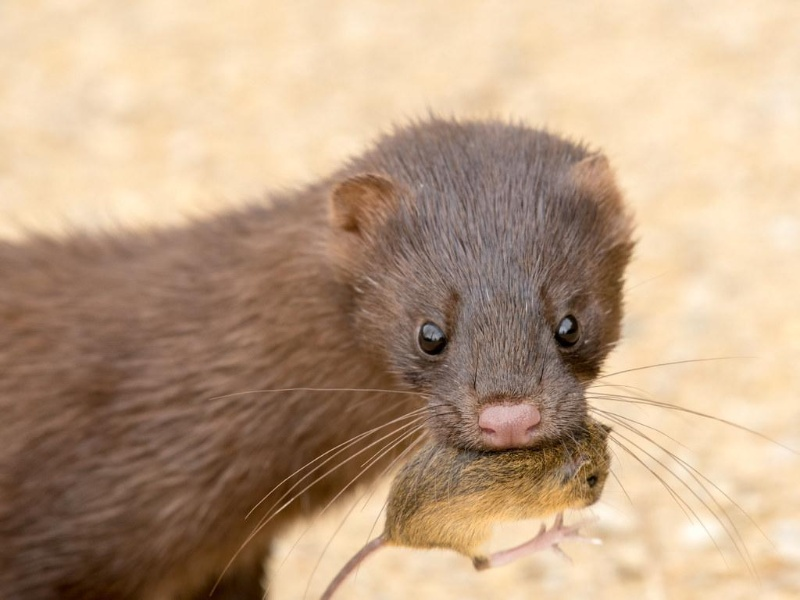minkish: (3, 104, 642, 591)
